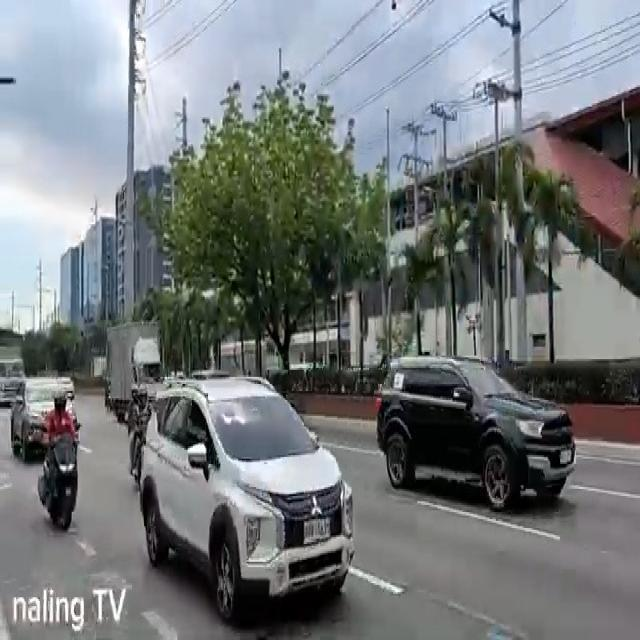car: (139, 374, 354, 627), (374, 354, 576, 515)
motorcycle: (38, 392, 81, 538), (126, 386, 150, 486)
truck: (106, 320, 162, 423)
